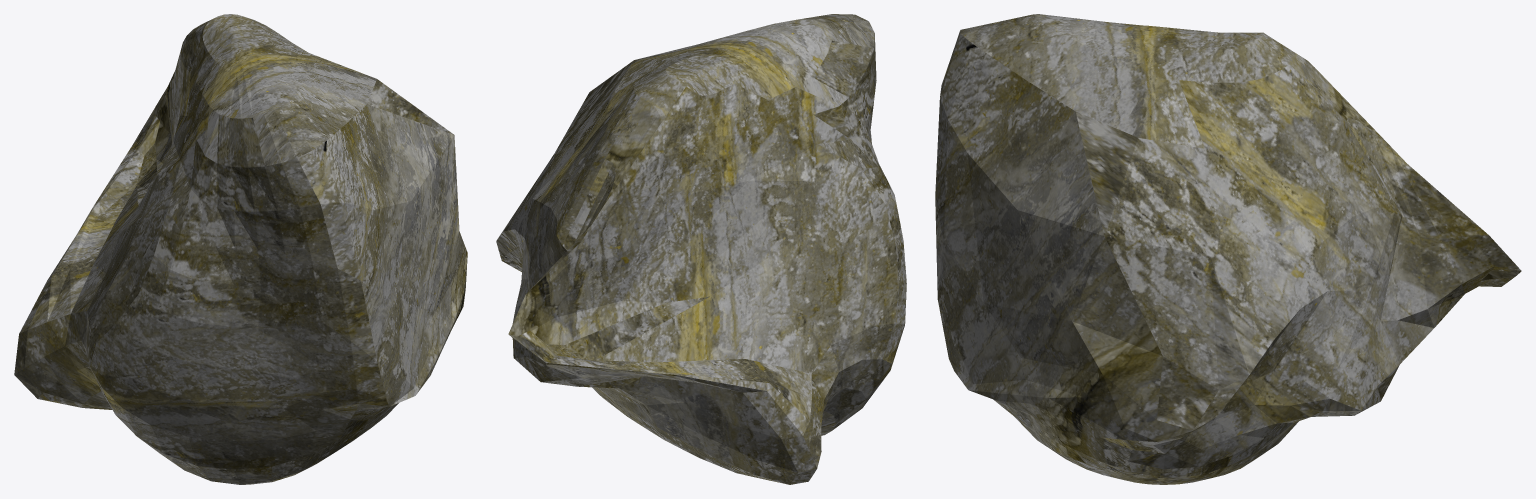
Rendered from test_rock.obj.
3 renders of one model, left to right at view 1: azimuth 30°, elevation 25°; view 2: azimuth 150°, elevation 25°; view 3: azimuth 270°, elevation 25°, orthographic. The views are drawn at different scales.
Parts seen in each view (by area): view 1: Sphere; view 2: Sphere; view 3: Sphere.
Part boxes in pixels (box(x1,y1,x2,y2)): Sphere: box(14, 14, 467, 484); Sphere: box(496, 14, 906, 484); Sphere: box(935, 14, 1521, 484).
Size of the model in its own units: 2.43 by 2.49 by 2.98.
Materials: 1 (1 with a texture image).
